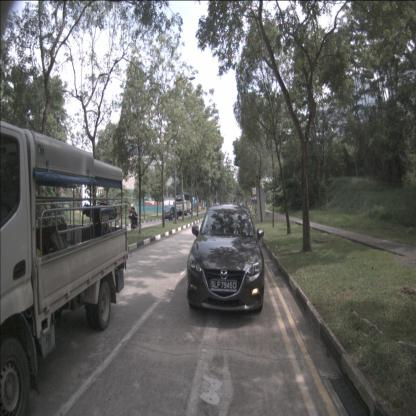vehicle-bus-rigid: (173, 192, 193, 216)
vehicle-car: (186, 204, 265, 314), (162, 206, 179, 221)
vehicle-motorcycle: (128, 204, 139, 231)
vehicle-truck: (0, 119, 129, 415)
